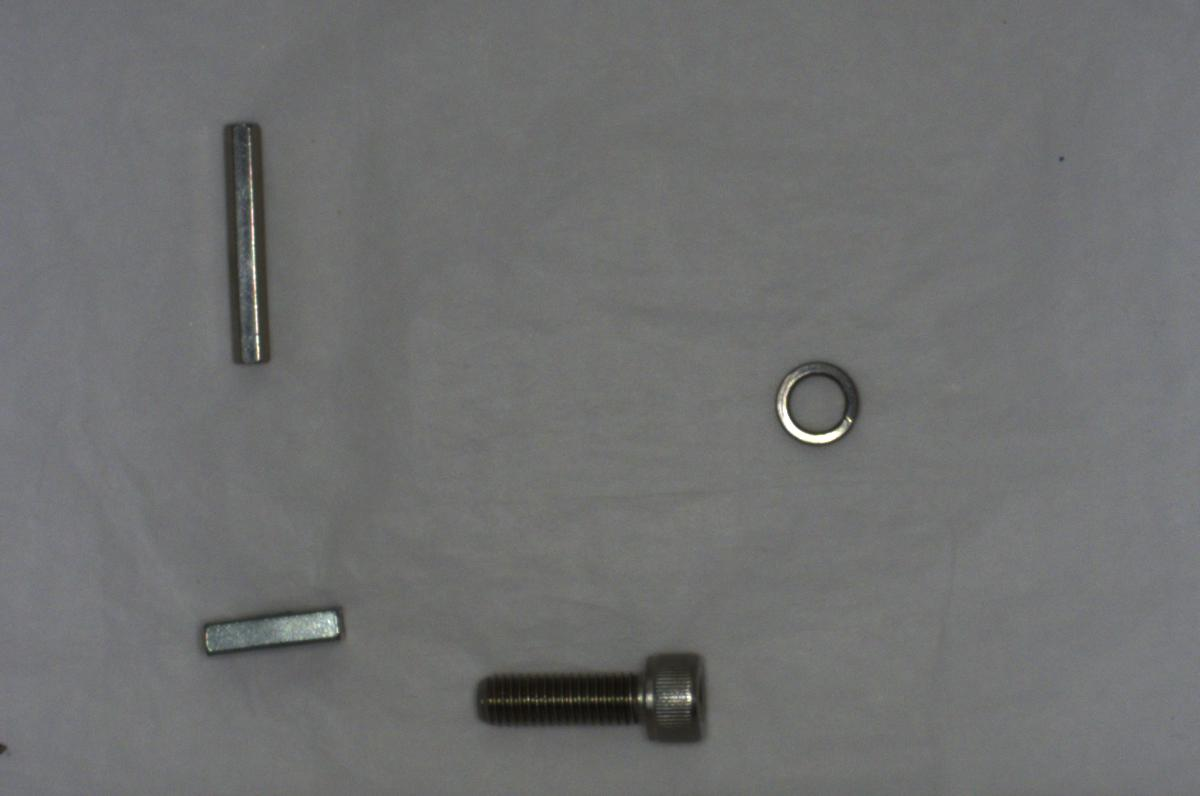Double hexagonal column: (206, 113, 281, 373)
Hexagon screw: (467, 642, 721, 768)
Rectangular nut: (193, 599, 346, 656)
Spring washer: (771, 354, 871, 446)
